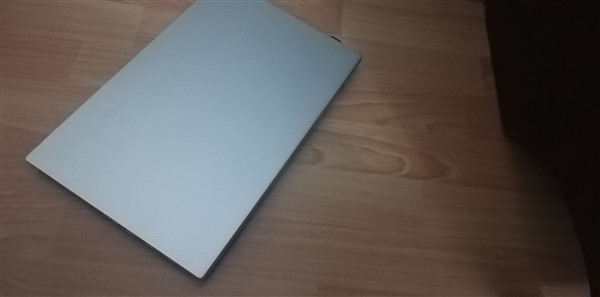laptop: (25, 2, 366, 281)
